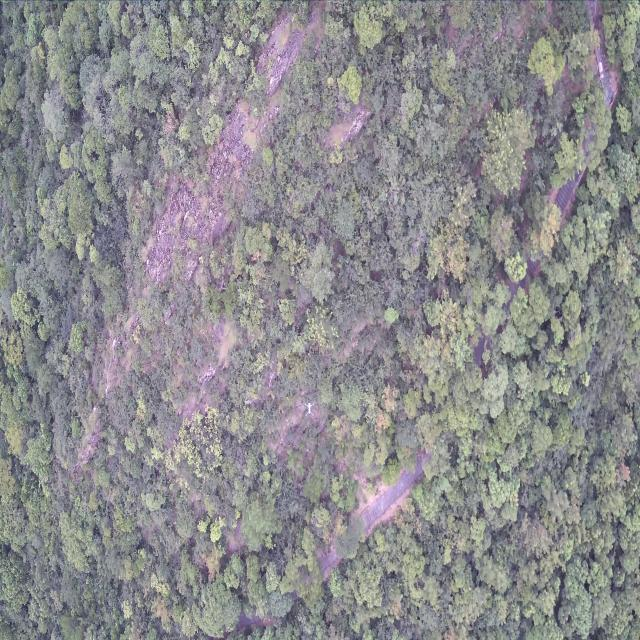drone: (304, 402, 314, 416)
